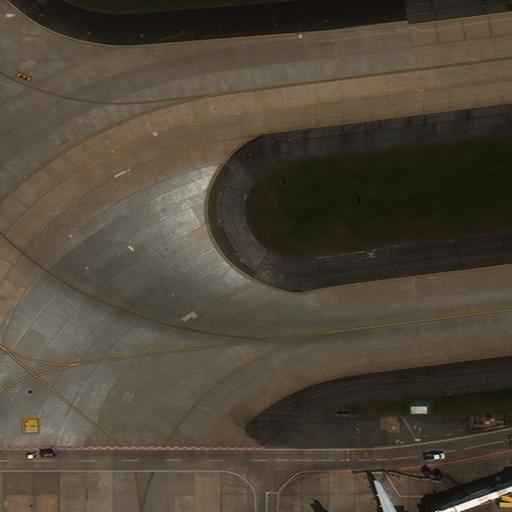Medium Civil Transport: (342, 480, 423, 512)
